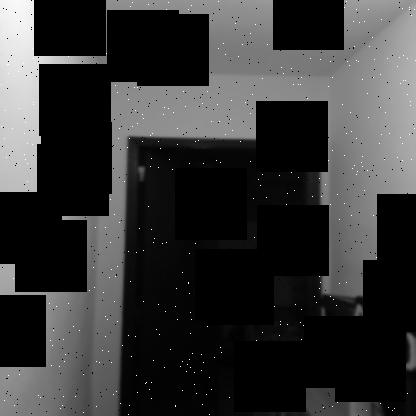Porte: (118, 136, 322, 416)
